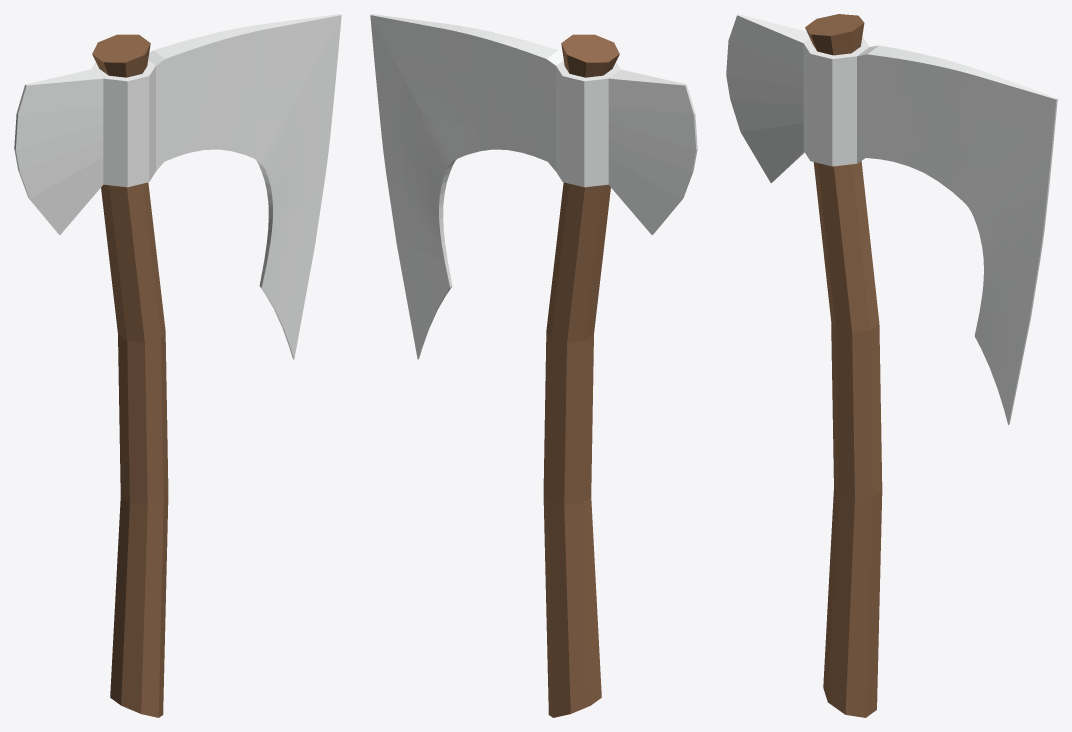
The model's file is one_handed_axe_4.fbx.
3 views of the same model, side by side, from view 1: azimuth 30°, elevation 25°; view 2: azimuth 150°, elevation 25°; view 3: azimuth 330°, elevation 25° (orthographic).
Visible parts, largest first — view 1: one_handed_axe_4; view 2: one_handed_axe_4; view 3: one_handed_axe_4.
Boxes of the visible parts, bbox=[...] form: one_handed_axe_4: bbox=[14, 14, 341, 717]; one_handed_axe_4: bbox=[370, 14, 697, 717]; one_handed_axe_4: bbox=[726, 14, 1057, 717].
Size of the model in its own units: 0.565 by 1.12 by 0.0908.
Materials: 1 (1 with a texture image).
